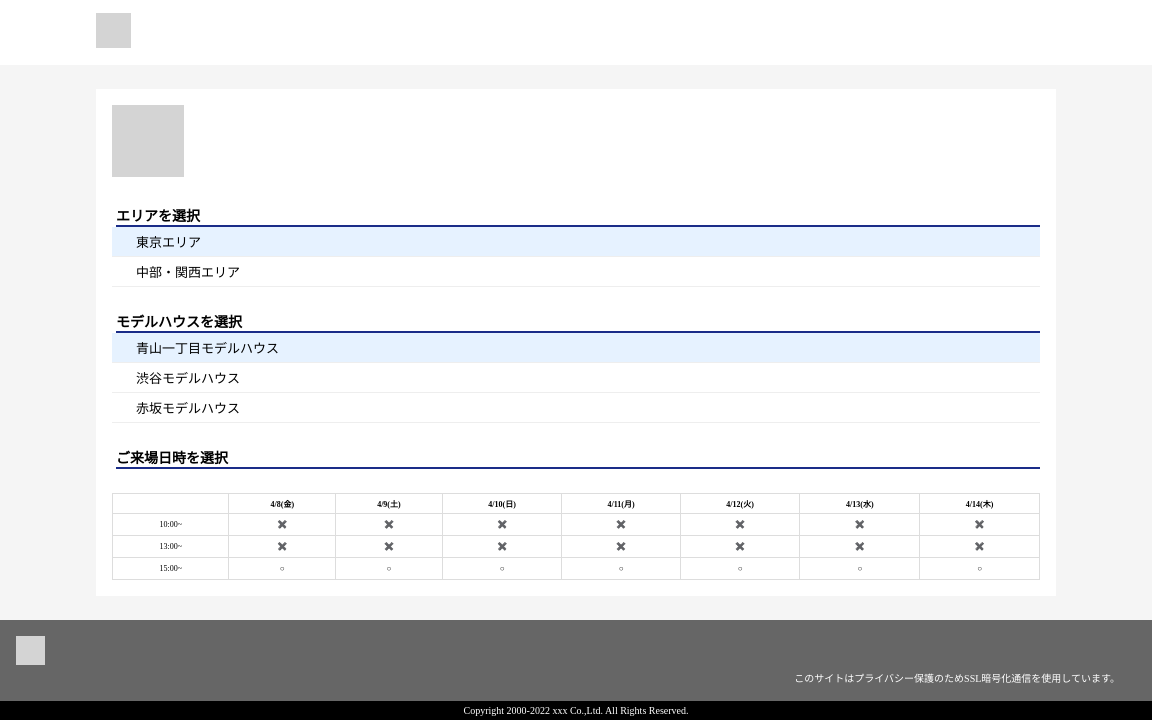
Test: TOPページの表示 › 中部関西エリアをクリックしたら表示が切り替わるか
Click the text "中部・関西エリア" at (576, 272), box [112,257,1040,287]
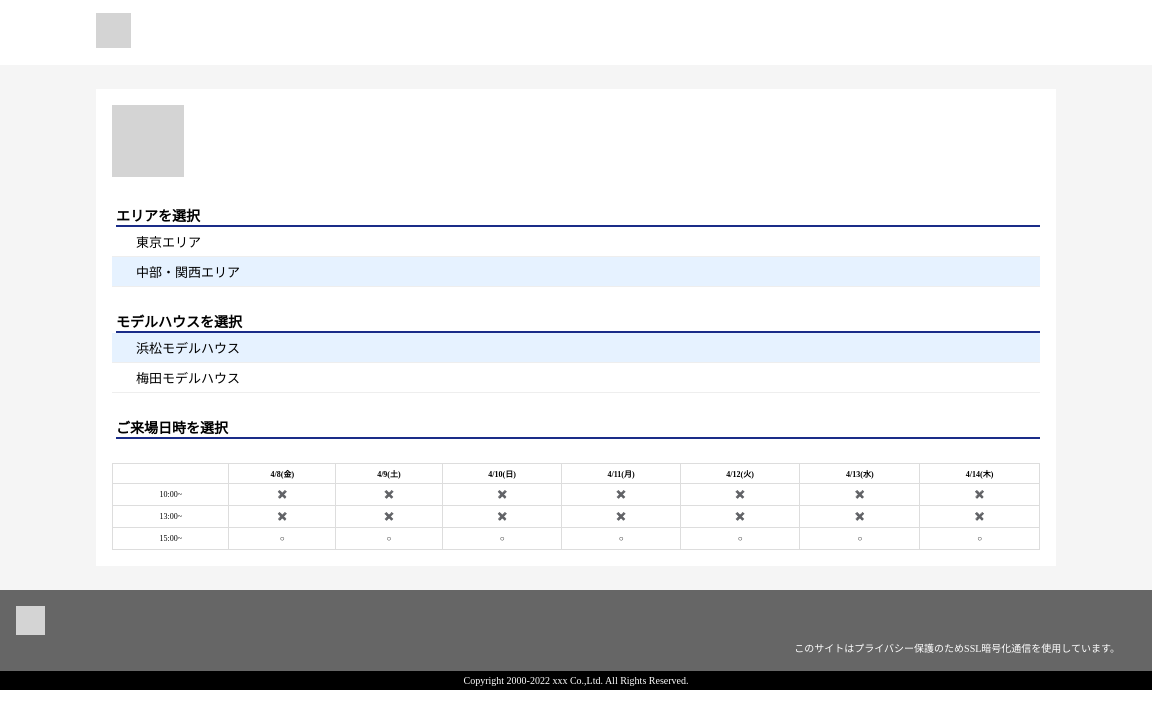
Now the text "浜松モデルハウス" is shown, box [112,333,1040,362]
Now the text "梅田モデルハウス" is shown, box [112,362,1040,392]
